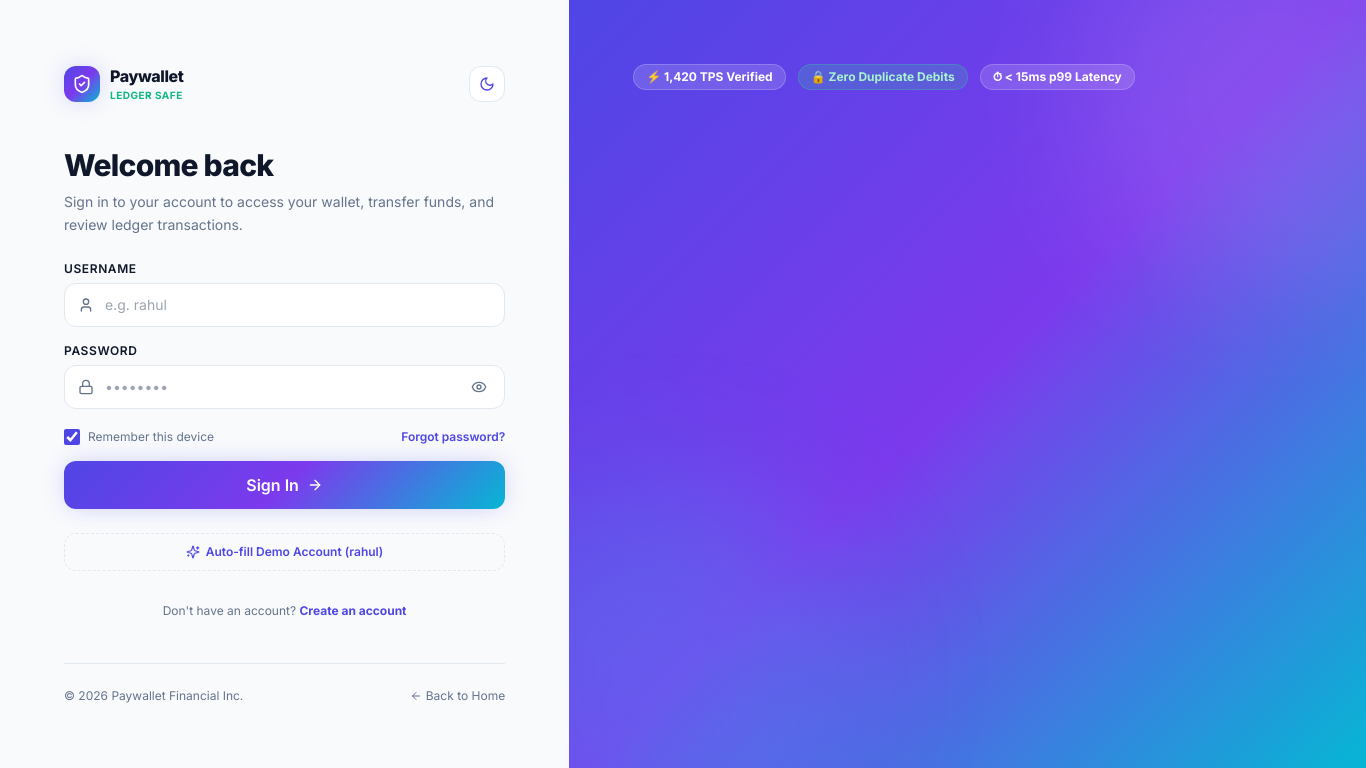
it: Auth Pages & Password Strength Meter › LoginPage Component › auto-fills demo credentials when clicking chip
Step 1. Click the button "Auto-fill Demo Account (rahul)" → x=285, y=552, box left=64, top=533, right=505, bottom=571
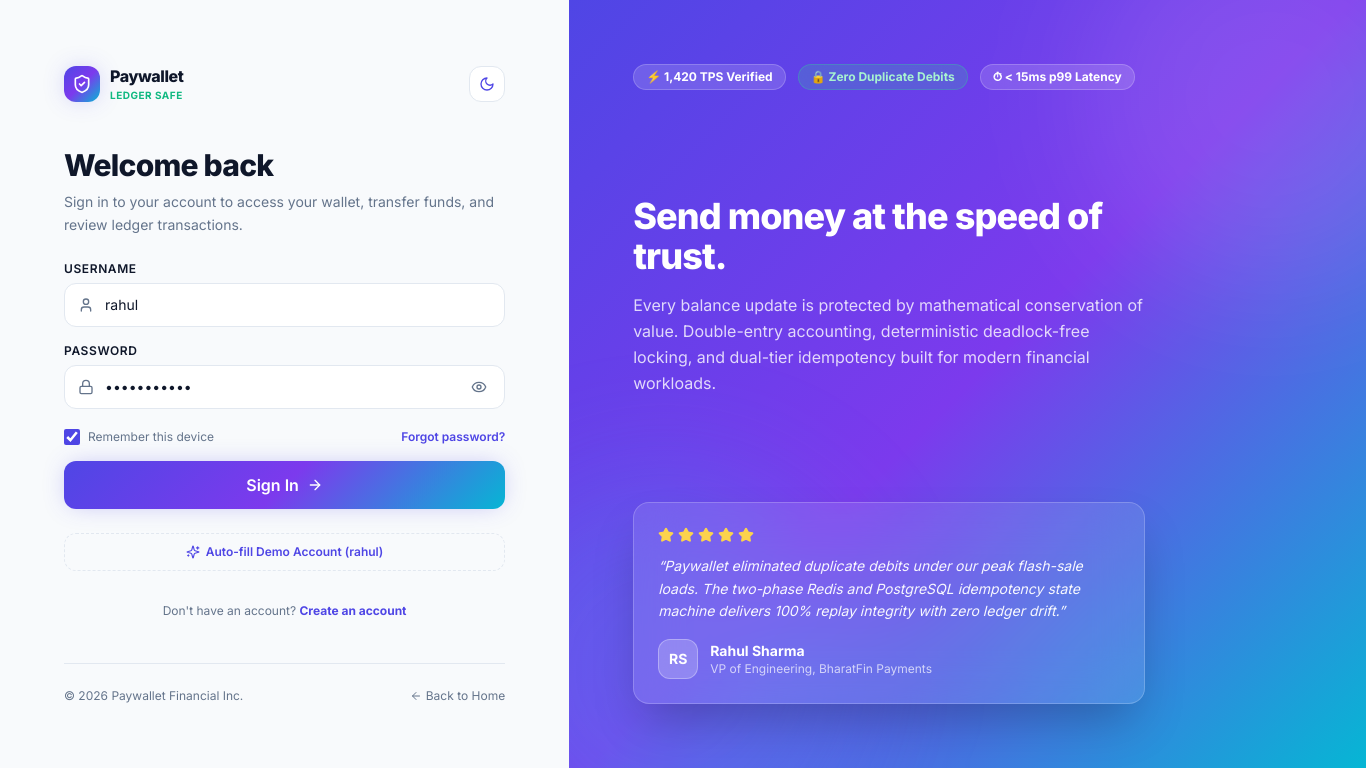
Check: the field labelled "Username" holds "rahul", box left=64, top=283, right=505, bottom=327
